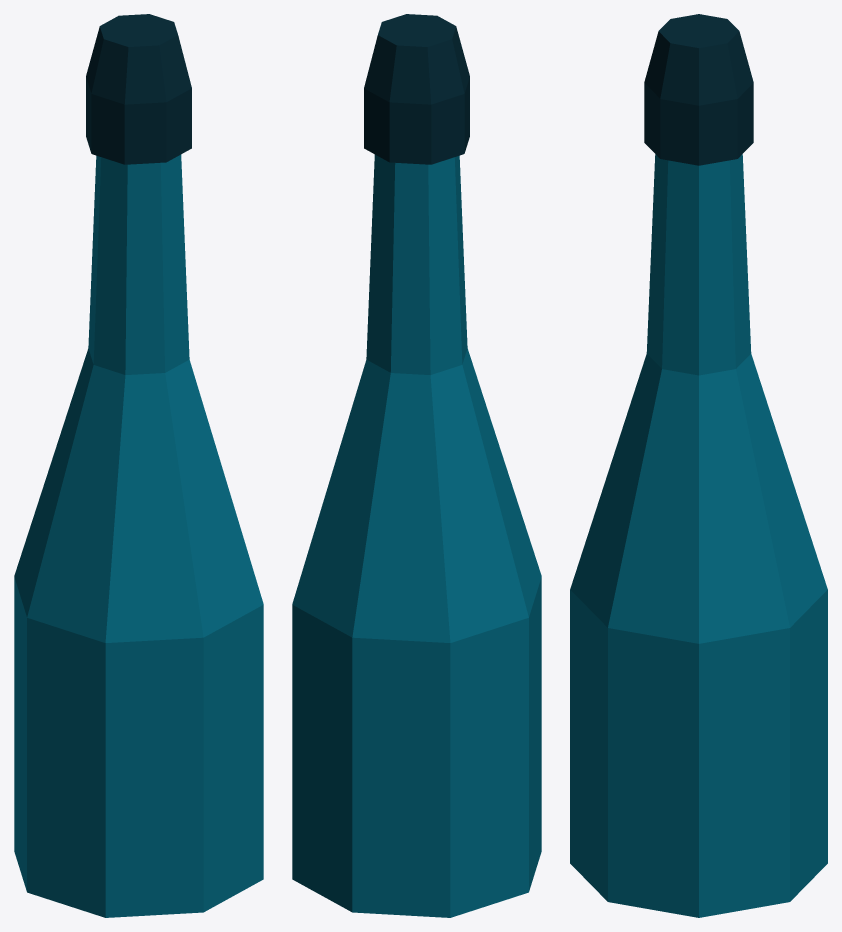
The model's file is GlassBottle_02.fbx.
3 views of the same model, side by side, from view 1: azimuth 30°, elevation 25°; view 2: azimuth 150°, elevation 25°; view 3: azimuth 270°, elevation 25° (orthographic).
Visible parts, largest first — view 1: GlassBottle_02; view 2: GlassBottle_02; view 3: GlassBottle_02.
Part boxes in pixels (x1,y1,x2,y2): GlassBottle_02: [14, 14, 263, 917]; GlassBottle_02: [292, 14, 541, 917]; GlassBottle_02: [570, 14, 827, 917].
Bounding box in the file's own units: 16.97 × 60.49 × 16.97.
